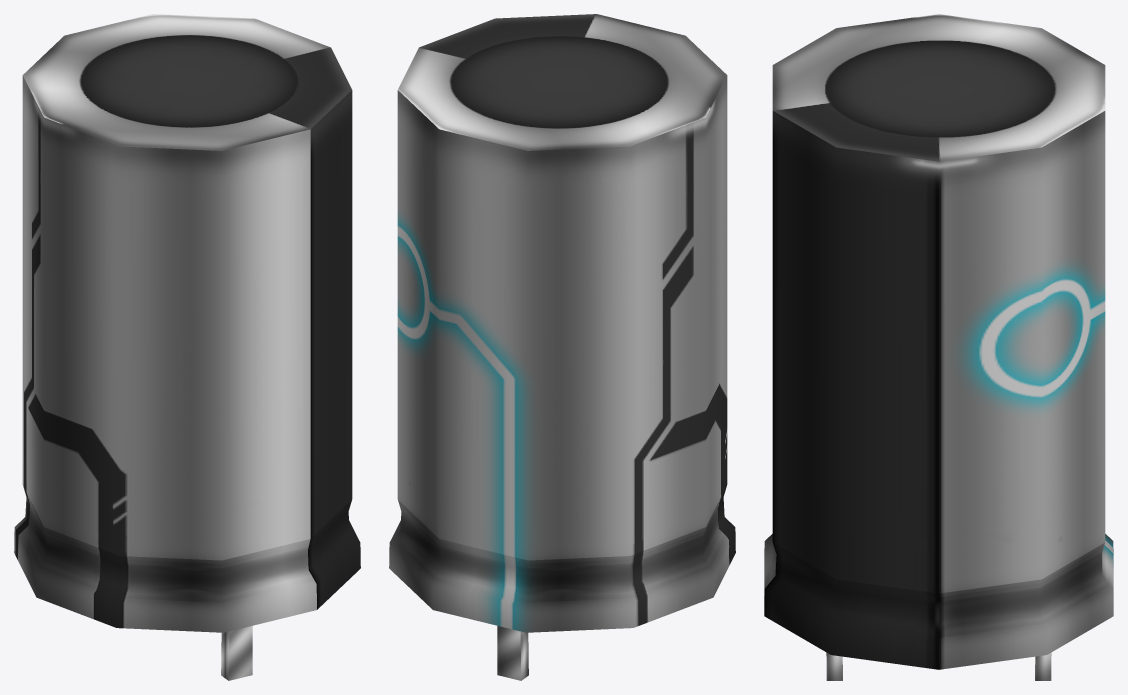
File: condenser.fbx
3 views of the same model, side by side, from view 1: azimuth 30°, elevation 25°; view 2: azimuth 150°, elevation 25°; view 3: azimuth 270°, elevation 25° (orthographic). The views are drawn at different scales.
Visible parts, largest first — view 1: polySurface8; view 2: polySurface8; view 3: polySurface8.
Part boxes in pixels (x1=…): polySurface8: x1=14, y1=14, x2=360, y2=680; polySurface8: x1=389, y1=14, x2=735, y2=680; polySurface8: x1=764, y1=14, x2=1113, y2=680.
Bounding box in the file's own units: 1.75 × 3.09 × 1.67.
Materials: 1 (1 with a texture image).
